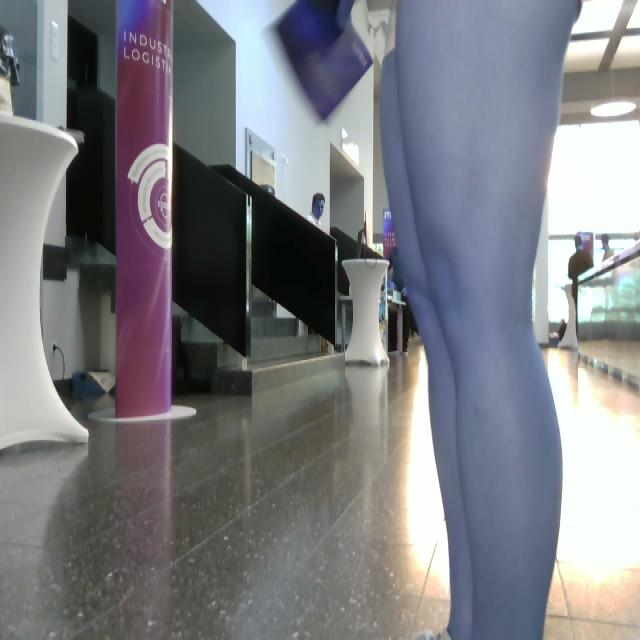light bulb: (343, 260, 389, 365), (591, 100, 637, 118)
person: (381, 1, 579, 640), (569, 236, 593, 304), (308, 194, 325, 225)
pillar: (118, 1, 195, 420)
staircase: (174, 145, 344, 394)
table: (1, 114, 88, 449)
tiled floor: (1, 345, 449, 640), (546, 350, 640, 640)
